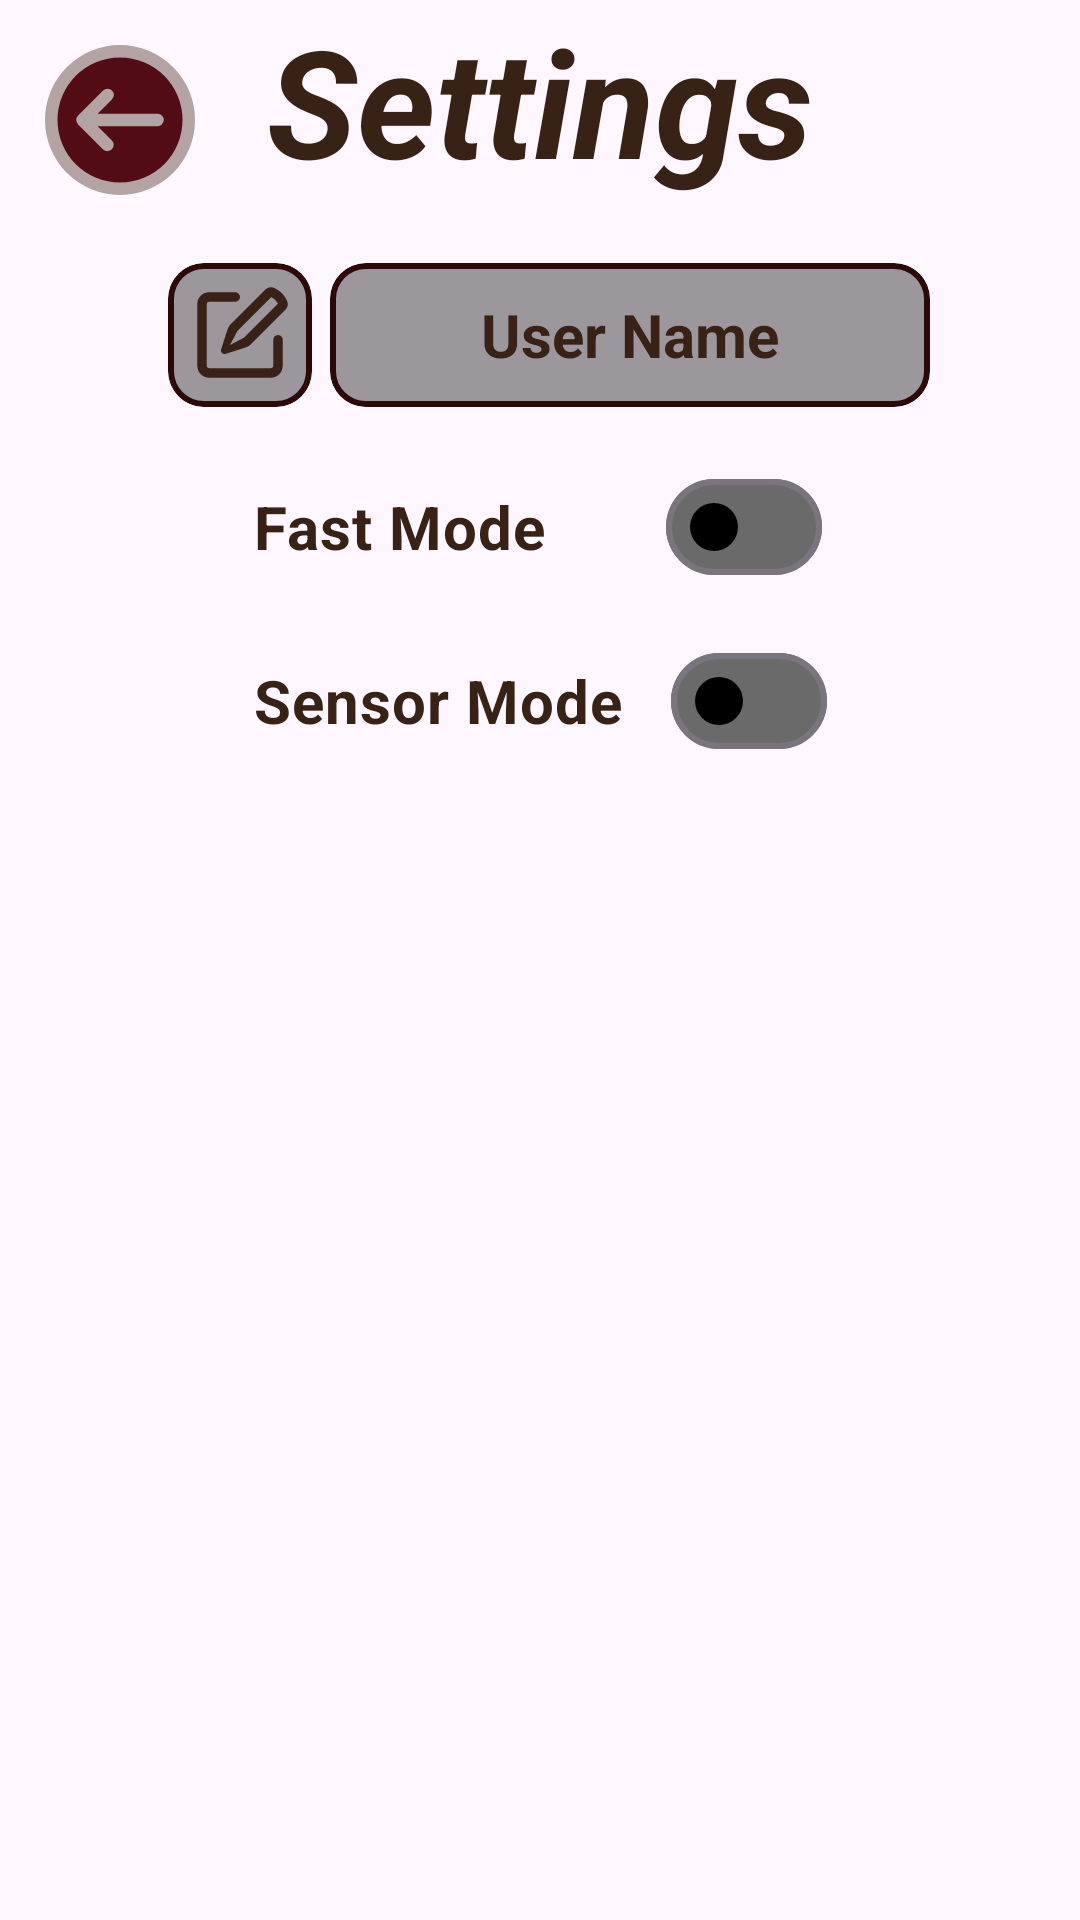

Icons on this 1080 x 1920 Android screen, each with the point to tap as [x,y]:
Write Name: [240,335]
